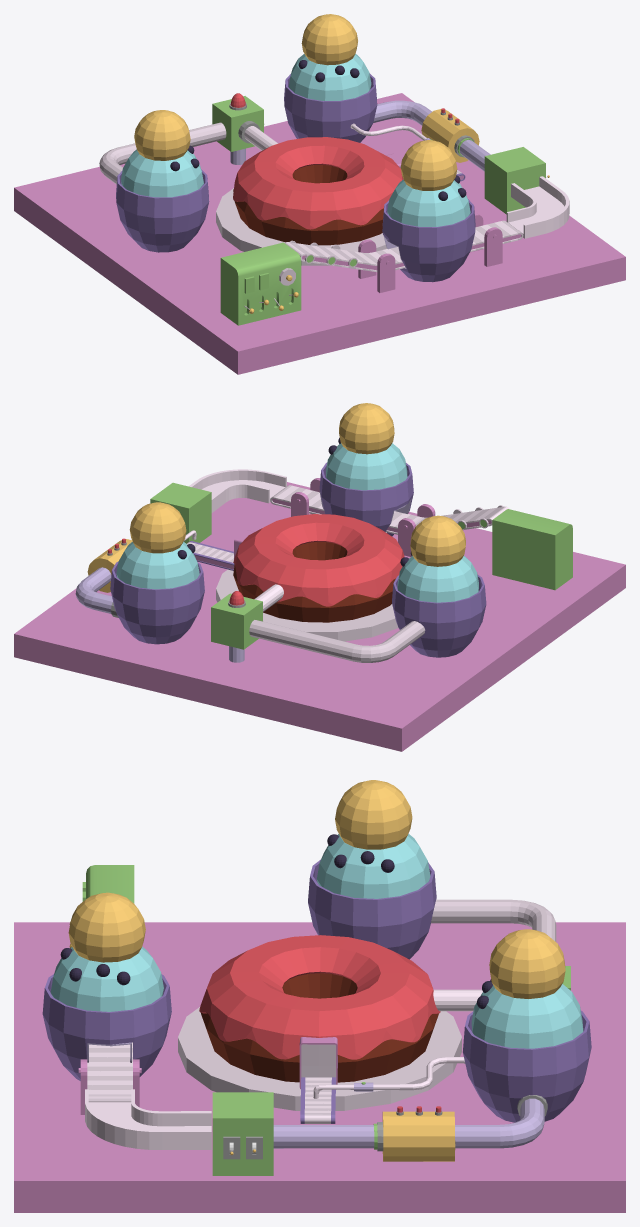
Rendered from D2_CANDY_FACTORY_4.fbx.
The picture shows the model from 3 angles, top to bottom: view 1: azimuth 30°, elevation 25°; view 2: azimuth 150°, elevation 25°; view 3: azimuth 270°, elevation 25°; orthographic projection. The views are drawn at different scales.
Parts seen in each view (by area): view 1: Cube.010, Sphere.004, Torus.001, Cube.012, Sphere.003, Torus, Sphere.006, Plane.015, Cube.015, Plane.014, Plane.012, Cylinder.031 (+5 smaller); view 2: Cube.010, Sphere.004, Torus.001, Cube.012, Sphere.006, Sphere.003, Torus, Plane.011, Cylinder.031, Plane.014, Cube.011, Cube.015 (+5 smaller); view 3: Cube.010, Sphere.004, Torus.001, Plane.015, Cylinder.031, Sphere.006, Torus, Sphere.003, Plane.014, Cube.015, Plane.011, Plane.012 (+7 smaller).
Boxes of the visible parts, x1,y1,x2,y2 form: Cube.010: (14, 93, 625, 374); Sphere.004: (121, 14, 475, 282); Torus.001: (233, 137, 403, 229); Cube.012: (220, 242, 301, 325); Sphere.003: (116, 169, 209, 252); Torus: (233, 165, 383, 245); Sphere.006: (284, 73, 377, 142); Plane.015: (373, 100, 490, 171); Cube.015: (484, 147, 545, 214); Plane.014: (506, 176, 569, 238); Plane.012: (285, 220, 523, 271); Cylinder.031: (216, 188, 387, 265); Cube.010: (14, 482, 625, 751); Sphere.004: (116, 403, 478, 602); Torus.001: (233, 514, 404, 606); Cube.012: (492, 509, 572, 590); Sphere.006: (110, 561, 204, 644); Sphere.003: (392, 575, 486, 657); Torus: (233, 542, 395, 622); Plane.011: (249, 620, 425, 662); Cylinder.031: (216, 569, 398, 641); Plane.014: (189, 469, 286, 512); Cube.011: (211, 593, 262, 649); Cube.015: (150, 482, 211, 543); Cube.010: (14, 922, 625, 1212); Sphere.004: (42, 780, 583, 1080); Torus.001: (199, 935, 440, 1059); Plane.015: (273, 1095, 547, 1161); Cylinder.031: (178, 1007, 461, 1110); Sphere.006: (463, 1010, 591, 1122); Torus: (201, 973, 438, 1082); Sphere.003: (308, 859, 436, 959); Plane.014: (85, 1089, 211, 1149); Cube.015: (212, 1092, 273, 1175); Plane.011: (431, 899, 556, 941); Plane.012: (87, 1042, 132, 1102).
Size of the model in its own units: 2018 by 751 by 2000.
Materials: 3 (2 with a texture image).
